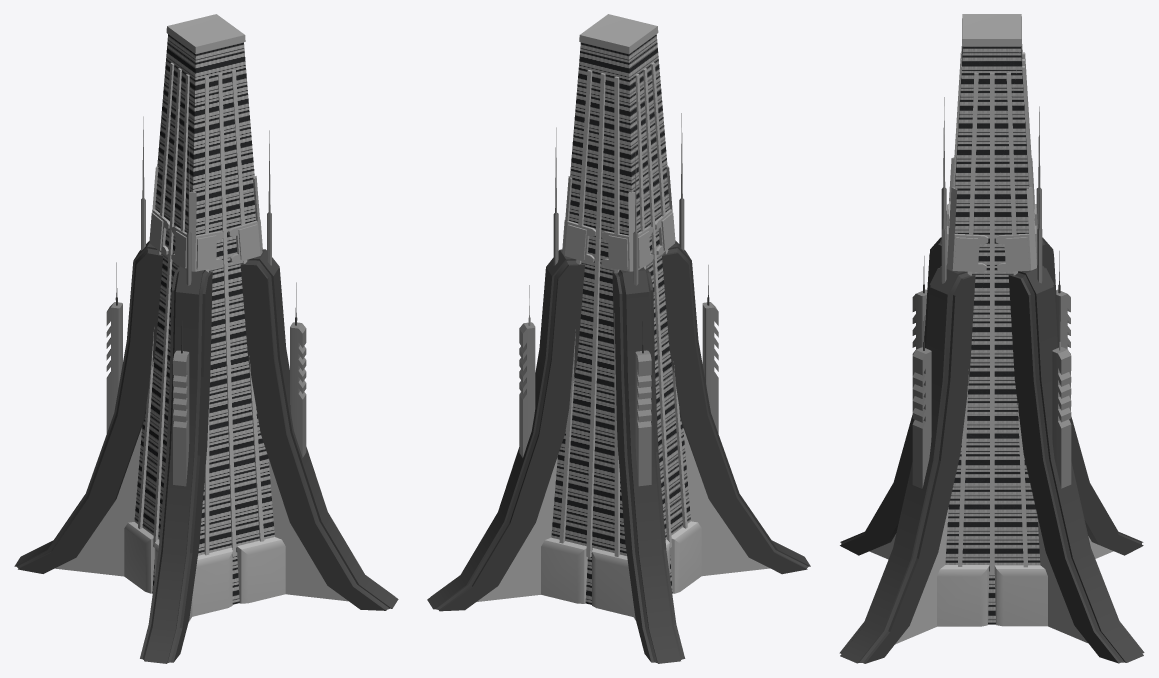
File: building37.fbx
3 renders of one model, left to right at view 1: azimuth 30°, elevation 25°; view 2: azimuth 150°, elevation 25°; view 3: azimuth 270°, elevation 25°, orthographic. The views are drawn at different scales.
Visible parts, largest first — view 1: polySurface1017; view 2: polySurface1017; view 3: polySurface1017.
Boxes of the visible parts, bbox=[...] form: polySurface1017: bbox=[14, 14, 398, 663]; polySurface1017: bbox=[427, 14, 810, 663]; polySurface1017: bbox=[839, 14, 1144, 663].
Size of the model in its own units: 68.95 by 143 by 68.81.
